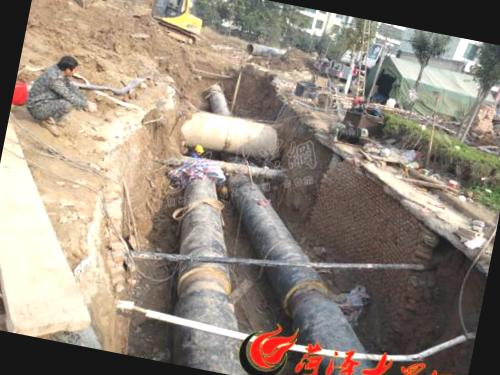no_helmet: (58, 50, 82, 81)
